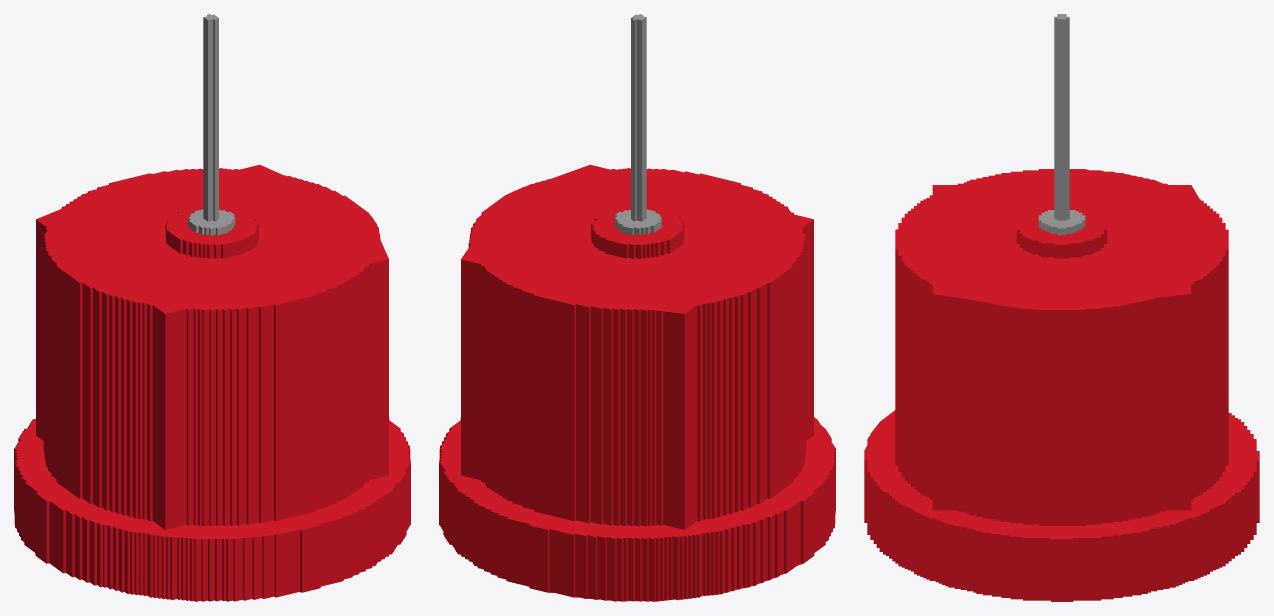
The model's file is Bucket.obj.
3 views of the same model, side by side, from view 1: azimuth 30°, elevation 25°; view 2: azimuth 150°, elevation 25°; view 3: azimuth 270°, elevation 25° (orthographic).
Parts seen in each view (by area): view 1: Cylinder; view 2: Cylinder; view 3: Cylinder.
Boxes of the visible parts, bbox=[...] form: Cylinder: bbox=[14, 14, 410, 601]; Cylinder: bbox=[439, 14, 835, 601]; Cylinder: bbox=[864, 14, 1259, 601].
Bounding box in the file's own units: 60.99 × 85.23 × 60.99.
2 materials, 2 textured.
